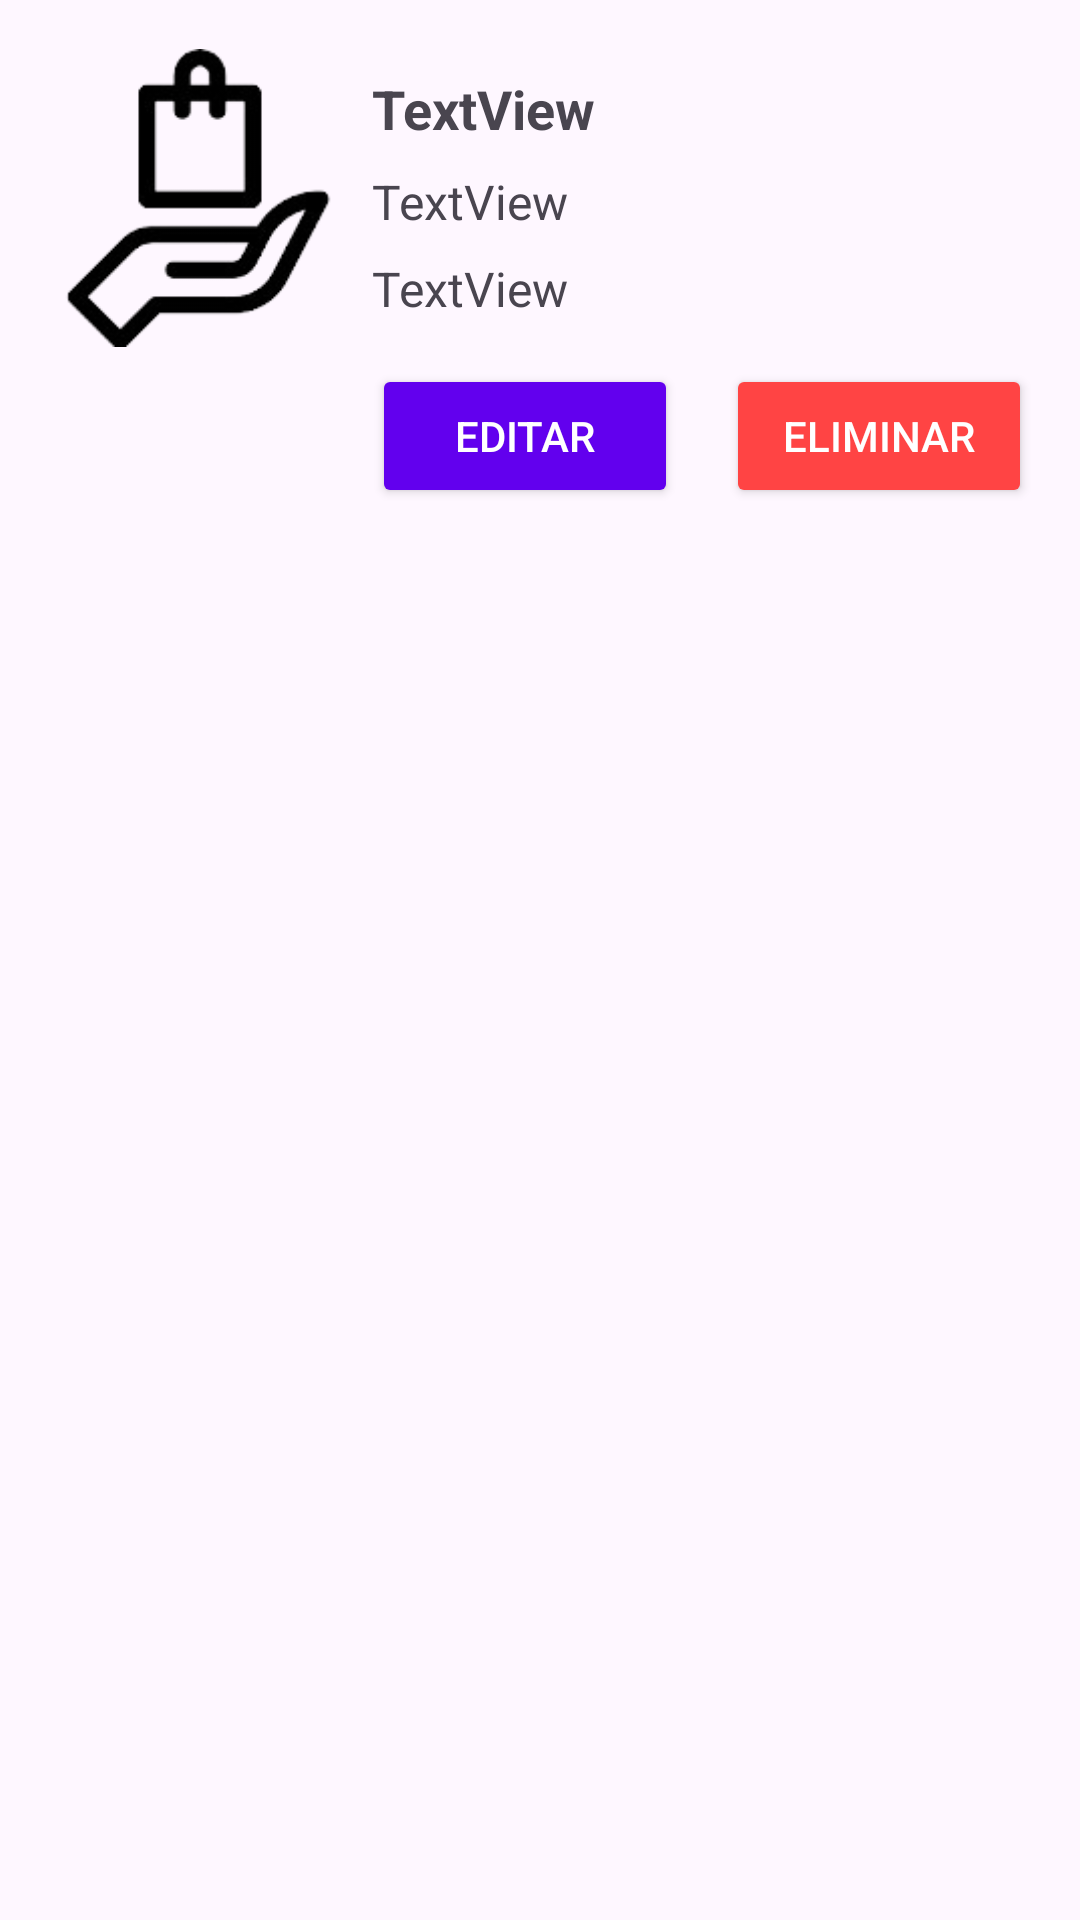

Screen size 1080 x 1920. Icon name, then its box in pixels as (x1, y1, x2, y2):
product: (67, 49, 330, 347)
